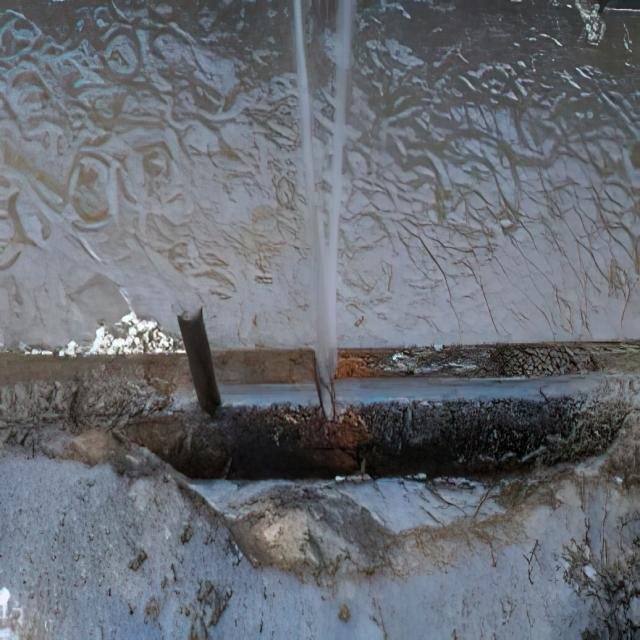leak: (294, 0, 354, 420)
